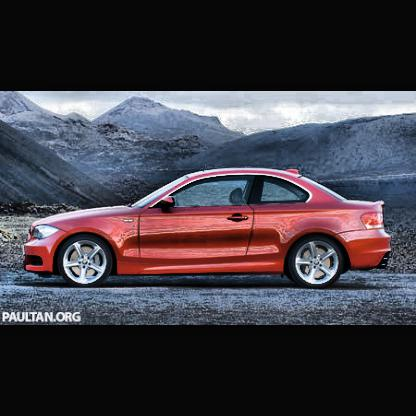BMW 1 Series Coupe 2012: (24, 168, 395, 292)
